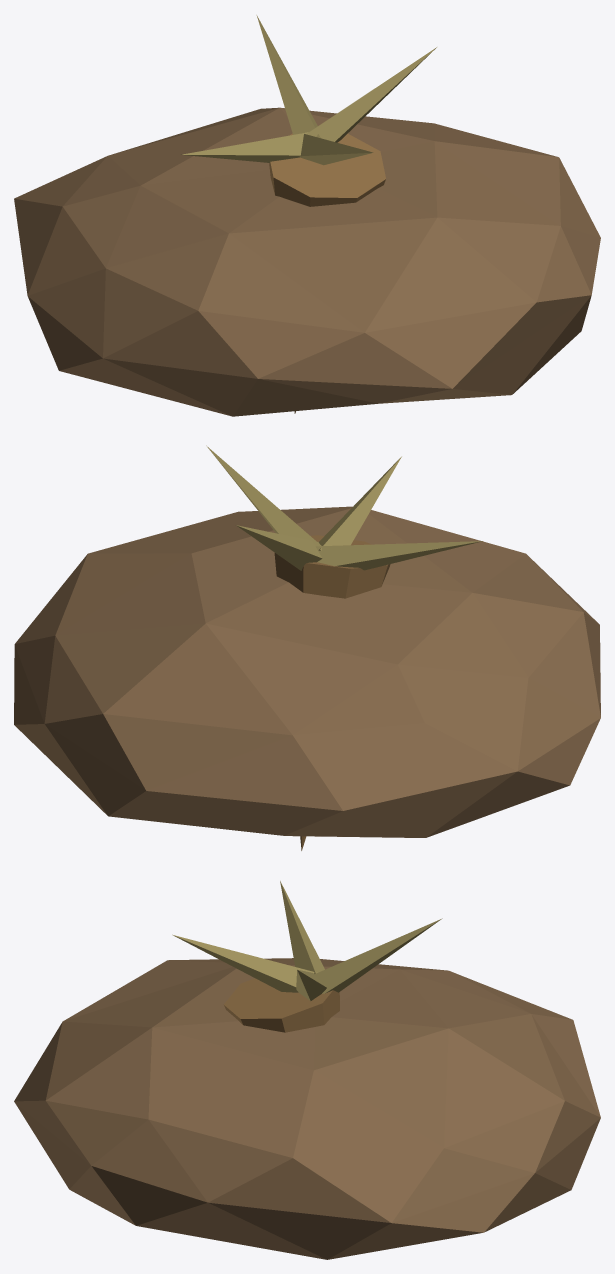
Rendered from carotte_4_pourrie.fbx.
3 views of the same model, one above another, from view 1: azimuth 30°, elevation 25°; view 2: azimuth 150°, elevation 25°; view 3: azimuth 270°, elevation 25° (orthographic). The views are drawn at different scales.
Visible parts, largest first — view 1: carotte_4_pourrie; view 2: carotte_4_pourrie; view 3: carotte_4_pourrie.
Boxes of the visible parts, x1,y1,x2,y2 form: carotte_4_pourrie: (14, 15, 600, 416); carotte_4_pourrie: (14, 445, 600, 850); carotte_4_pourrie: (14, 881, 600, 1259).
Bounding box in the file's own units: 0.9542 × 0.6411 × 0.9898.
